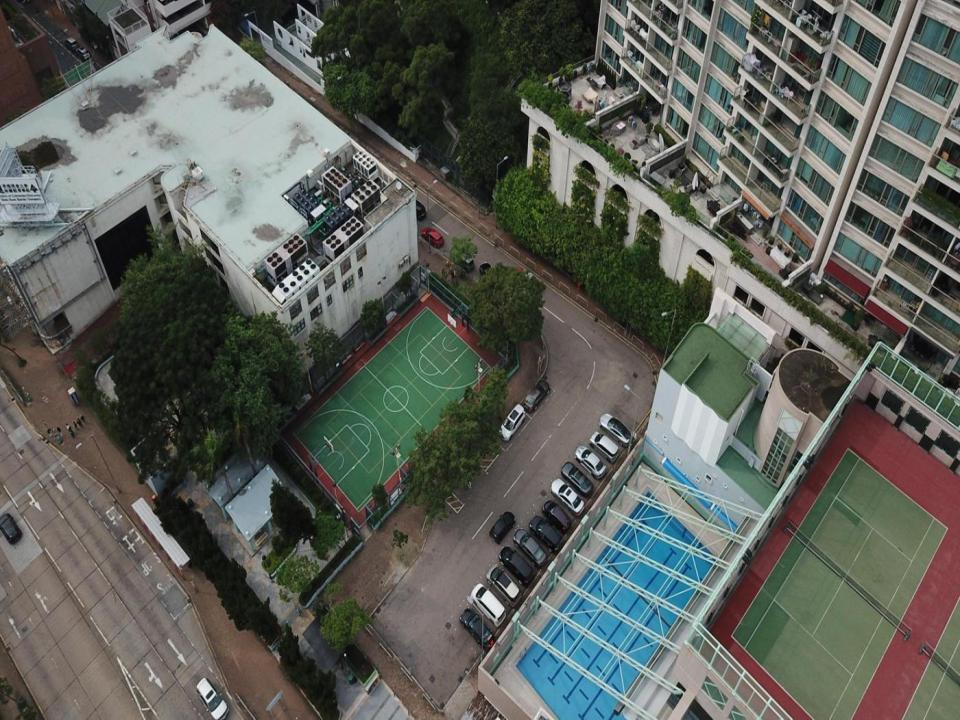car: (460, 608, 494, 648), (550, 478, 585, 514), (514, 528, 546, 566), (560, 462, 594, 496), (574, 445, 607, 479), (600, 414, 634, 447), (590, 430, 619, 464), (542, 500, 572, 532), (490, 511, 516, 546), (522, 380, 550, 412), (0, 510, 22, 544), (421, 226, 445, 250), (480, 262, 499, 291), (452, 250, 475, 272)
van: (470, 584, 506, 628), (487, 564, 521, 606), (529, 514, 564, 553), (197, 677, 229, 719), (499, 403, 525, 442), (399, 192, 427, 219)
